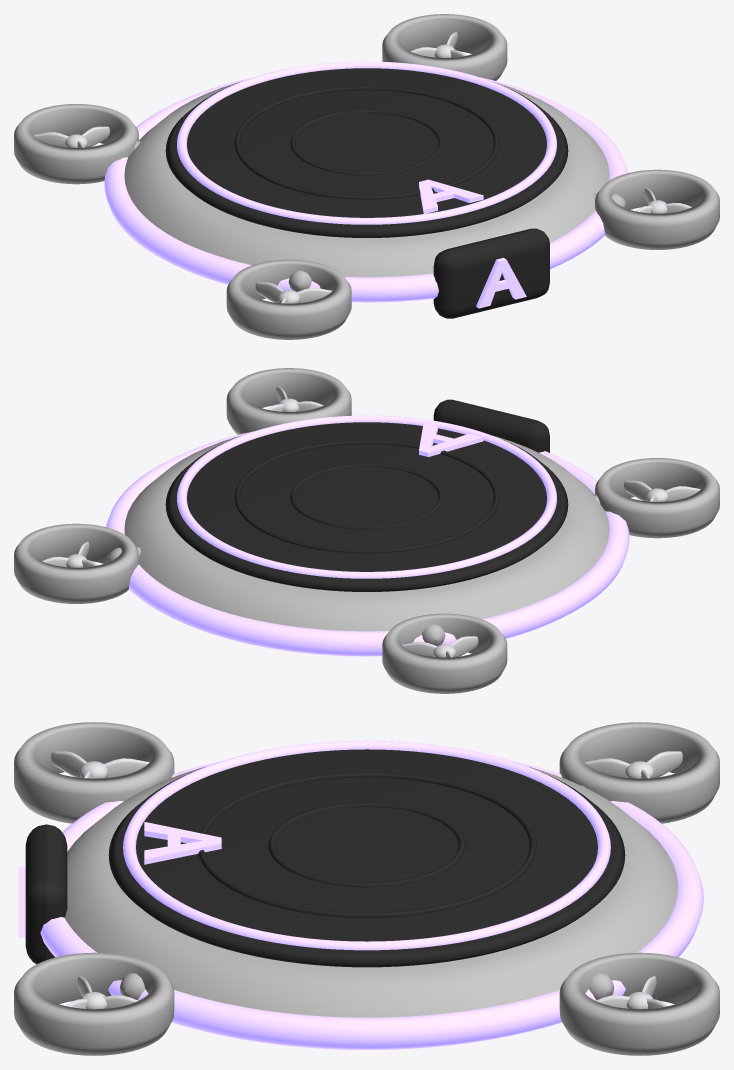
File: AioDrone.glb
The picture shows the model from 3 angles, top to bottom: view 1: azimuth 30°, elevation 25°; view 2: azimuth 150°, elevation 25°; view 3: azimuth 270°, elevation 25°; orthographic projection. The views are drawn at different scales.
Visible parts, largest first — view 1: Deck__SmoothPlastic__2B2B2B, Shell__SmoothPlastic__C5C5C5, Ring__Neon__8B7CFF, Logo__Neon__8B7CFF, Rotor2__SmoothPlastic__E6E6EA__Spin, Rotor3__SmoothPlastic__E6E6EA__Spin, Rotor4__SmoothPlastic__E6E6EA__Spin, Rotor1__SmoothPlastic__E6E6EA__Spin; view 2: Shell__SmoothPlastic__C5C5C5, Deck__SmoothPlastic__2B2B2B, Ring__Neon__8B7CFF, Logo__Neon__8B7CFF, Rotor3__SmoothPlastic__E6E6EA__Spin, Rotor2__SmoothPlastic__E6E6EA__Spin, Rotor1__SmoothPlastic__E6E6EA__Spin, Rotor4__SmoothPlastic__E6E6EA__Spin; view 3: Shell__SmoothPlastic__C5C5C5, Deck__SmoothPlastic__2B2B2B, Ring__Neon__8B7CFF, Logo__Neon__8B7CFF, Rotor2__SmoothPlastic__E6E6EA__Spin, Rotor3__SmoothPlastic__E6E6EA__Spin, Rotor1__SmoothPlastic__E6E6EA__Spin, Rotor4__SmoothPlastic__E6E6EA__Spin.
Part boxes in pixels (x1=…): Deck__SmoothPlastic__2B2B2B: x1=165, y1=68, x2=568, y2=318; Shell__SmoothPlastic__C5C5C5: x1=14, y1=14, x2=719, y2=339; Ring__Neon__8B7CFF: x1=104, y1=61, x2=627, y2=302; Logo__Neon__8B7CFF: x1=419, y1=179, x2=526, y2=308; Rotor2__SmoothPlastic__E6E6EA__Spin: x1=33, y1=126, x2=109, y2=147; Rotor3__SmoothPlastic__E6E6EA__Spin: x1=255, y1=282, x2=331, y2=303; Rotor4__SmoothPlastic__E6E6EA__Spin: x1=636, y1=187, x2=691, y2=213; Rotor1__SmoothPlastic__E6E6EA__Spin: x1=410, y1=32, x2=466, y2=57; Shell__SmoothPlastic__C5C5C5: x1=14, y1=368, x2=719, y2=693; Deck__SmoothPlastic__2B2B2B: x1=165, y1=399, x2=568, y2=591; Ring__Neon__8B7CFF: x1=106, y1=415, x2=629, y2=656; Logo__Neon__8B7CFF: x1=419, y1=422, x2=483, y2=456; Rotor3__SmoothPlastic__E6E6EA__Spin: x1=624, y1=480, x2=700, y2=501; Rotor2__SmoothPlastic__E6E6EA__Spin: x1=402, y1=636, x2=478, y2=657; Rotor1__SmoothPlastic__E6E6EA__Spin: x1=42, y1=541, x2=97, y2=567; Rotor4__SmoothPlastic__E6E6EA__Spin: x1=267, y1=386, x2=323, y2=411; Shell__SmoothPlastic__C5C5C5: x1=14, y1=722, x2=719, y2=1055; Deck__SmoothPlastic__2B2B2B: x1=25, y1=749, x2=625, y2=967; Ring__Neon__8B7CFF: x1=40, y1=740, x2=703, y2=1049; Logo__Neon__8B7CFF: x1=18, y1=822, x2=221, y2=937; Rotor2__SmoothPlastic__E6E6EA__Spin: x1=584, y1=751, x2=682, y2=778; Rotor3__SmoothPlastic__E6E6EA__Spin: x1=51, y1=751, x2=149, y2=778; Rotor1__SmoothPlastic__E6E6EA__Spin: x1=596, y1=975, x2=667, y2=1009; Rotor4__SmoothPlastic__E6E6EA__Spin: x1=66, y1=975, x2=137, y2=1009.
Size of the model in its own units: 2.6 by 0.6723 by 2.6.
